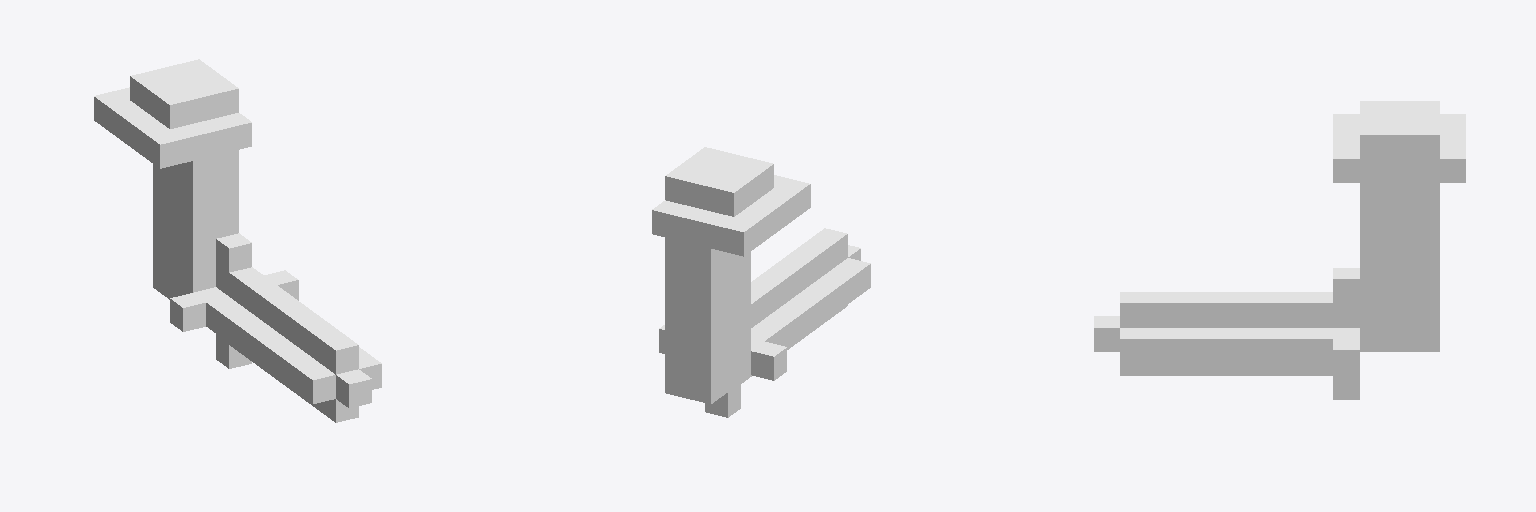
The model's file is Dorry_BR.obj.
The picture shows the model from 3 angles: view 1: azimuth 30°, elevation 25°; view 2: azimuth 150°, elevation 25°; view 3: azimuth 270°, elevation 25°; orthographic projection.
Visible parts, largest first — view 1: object 1; view 2: object 1; view 3: object 1.
Boxes of the visible parts, box(x1,y1,x2,y2) form: object 1: box(94, 59, 381, 422); object 1: box(652, 147, 870, 417); object 1: box(1094, 101, 1465, 399).
Size of the model in its own units: 0.6 by 1.1 by 1.4.